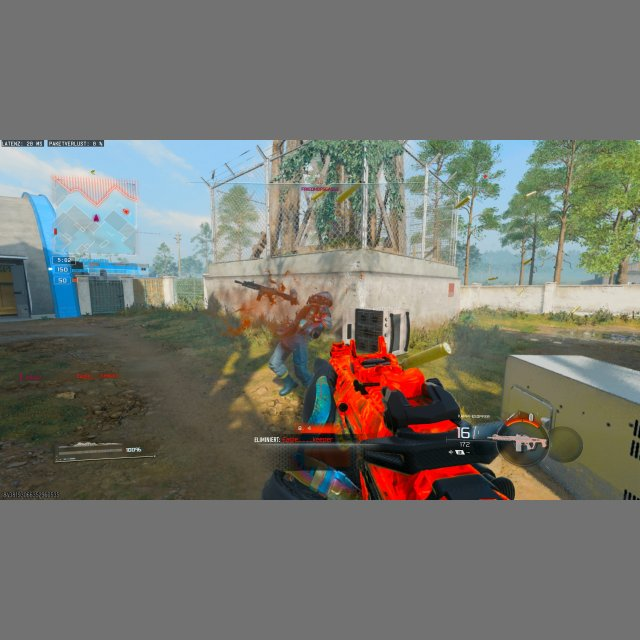player: (271, 291, 333, 397)
